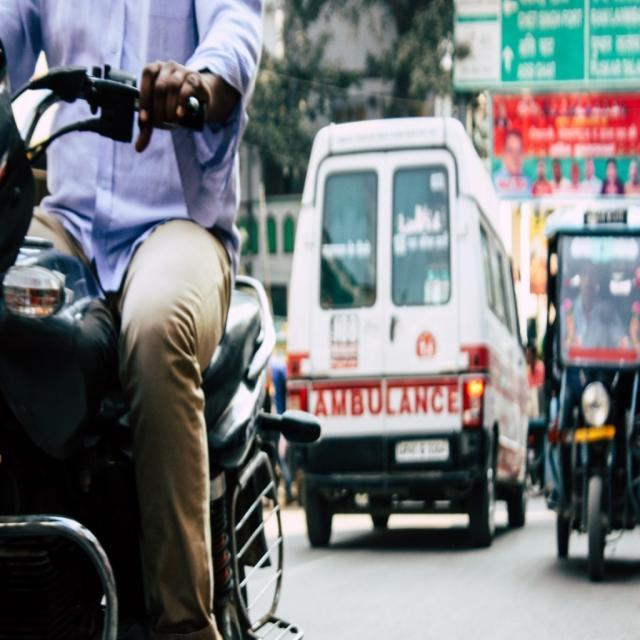emergency-vehicle: (273, 105, 533, 542)
